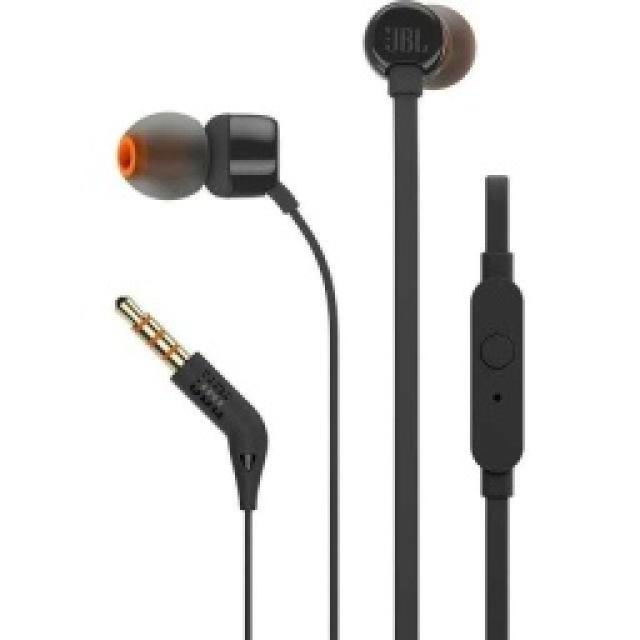headphones: (112, 108, 340, 638)
